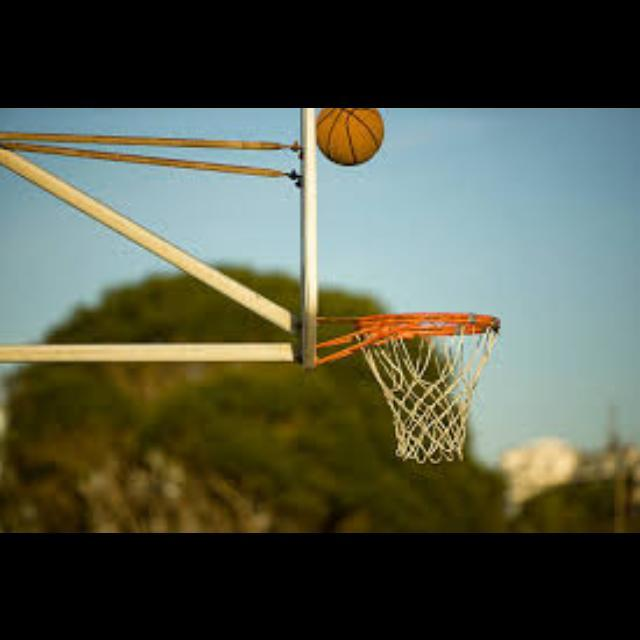basketball: (318, 108, 382, 166)
rim: (356, 312, 500, 462)
